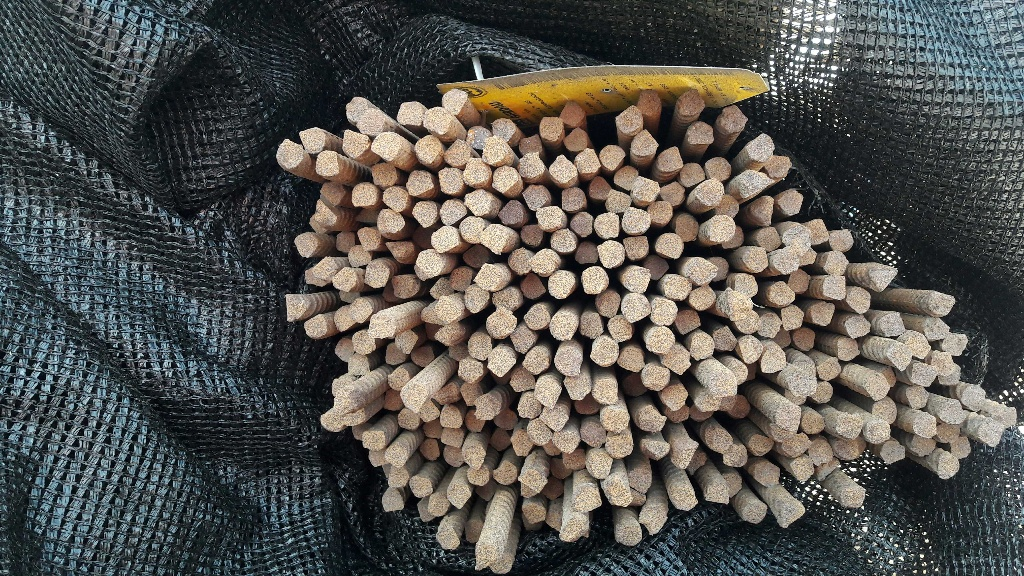dipstick: (485, 310, 517, 340), (833, 435, 868, 462), (867, 262, 897, 293), (723, 289, 753, 319), (581, 266, 610, 296), (975, 418, 1005, 447), (778, 499, 806, 530), (589, 337, 618, 366), (621, 294, 650, 323), (718, 105, 747, 134), (647, 326, 676, 355), (413, 251, 443, 279), (629, 175, 660, 202), (740, 171, 772, 197), (622, 207, 651, 235), (630, 129, 658, 158), (686, 257, 715, 285), (662, 345, 690, 374), (554, 347, 581, 377), (760, 345, 786, 376), (605, 432, 633, 460), (597, 240, 625, 268), (783, 225, 811, 253), (276, 139, 303, 168), (341, 129, 368, 158), (371, 132, 398, 161), (443, 139, 472, 166), (548, 154, 575, 183), (661, 273, 690, 300), (637, 404, 666, 431), (599, 407, 629, 433), (561, 376, 591, 402), (750, 462, 781, 487), (937, 399, 968, 424), (517, 152, 544, 180), (547, 271, 574, 299), (606, 315, 634, 342), (677, 90, 705, 117), (771, 247, 799, 274), (885, 343, 912, 371), (604, 478, 630, 507), (615, 106, 644, 132), (925, 291, 955, 316), (672, 310, 703, 334), (435, 297, 462, 324), (617, 346, 644, 373), (746, 134, 773, 161), (828, 227, 855, 254), (650, 299, 677, 326), (642, 364, 669, 391), (845, 288, 872, 315), (879, 310, 906, 337), (422, 106, 448, 134), (377, 208, 405, 234), (521, 183, 549, 209), (474, 263, 500, 291), (487, 348, 513, 376), (524, 303, 550, 331), (774, 403, 800, 431), (492, 165, 517, 194), (587, 450, 612, 479), (414, 135, 438, 165), (685, 121, 715, 145), (656, 385, 687, 408), (298, 127, 325, 153), (592, 379, 619, 405), (623, 235, 650, 261), (656, 233, 683, 259), (731, 272, 758, 298), (616, 518, 642, 545), (382, 186, 410, 211), (430, 226, 458, 251), (483, 225, 508, 253), (506, 247, 531, 275), (549, 314, 574, 342), (622, 267, 650, 292), (696, 180, 724, 205), (707, 216, 735, 241), (922, 316, 950, 341), (690, 331, 714, 360), (510, 325, 533, 355), (641, 506, 664, 536), (357, 109, 383, 135), (313, 201, 339, 227), (529, 249, 555, 275), (405, 170, 432, 195), (410, 201, 437, 226), (463, 159, 490, 184), (437, 167, 462, 194), (464, 188, 489, 215), (576, 147, 601, 174), (400, 384, 425, 411), (550, 228, 577, 253), (600, 144, 627, 169), (612, 165, 639, 190), (754, 226, 781, 251), (742, 247, 769, 272), (768, 280, 795, 305), (809, 301, 836, 326), (871, 398, 898, 423), (863, 373, 888, 400), (943, 332, 970, 357), (520, 468, 544, 496), (536, 380, 560, 408), (834, 413, 862, 437), (465, 285, 488, 314), (367, 315, 396, 338), (551, 431, 580, 454), (560, 520, 589, 543), (572, 490, 601, 513), (738, 335, 761, 364), (388, 274, 418, 296), (752, 196, 774, 226), (639, 440, 670, 461), (441, 88, 466, 114), (440, 199, 466, 224), (538, 115, 563, 141), (558, 186, 583, 212), (568, 211, 593, 237), (594, 213, 620, 238), (657, 147, 682, 173), (777, 190, 802, 216), (672, 486, 697, 512), (928, 348, 953, 374), (911, 412, 936, 438), (482, 137, 506, 164), (460, 216, 484, 243), (491, 287, 518, 311), (541, 406, 568, 430), (596, 289, 620, 316), (690, 285, 717, 309), (528, 418, 551, 446), (713, 325, 736, 353), (908, 435, 937, 457), (398, 101, 423, 126), (621, 371, 646, 396), (315, 150, 339, 176), (351, 330, 377, 354), (493, 460, 517, 486), (523, 349, 547, 375), (705, 157, 731, 181), (647, 201, 673, 225), (822, 274, 846, 300), (845, 314, 871, 338), (706, 428, 730, 454), (722, 444, 748, 468), (748, 433, 774, 457), (906, 333, 930, 359), (911, 363, 937, 387), (963, 386, 987, 412), (345, 95, 368, 122), (385, 239, 412, 262), (561, 100, 584, 127), (535, 207, 562, 230), (512, 367, 535, 394), (638, 90, 661, 117), (764, 155, 791, 178), (756, 311, 779, 338), (865, 419, 892, 442), (369, 163, 397, 185), (939, 452, 960, 481), (292, 233, 317, 257), (490, 118, 515, 142), (363, 263, 388, 287), (462, 242, 487, 266), (519, 222, 543, 247), (473, 544, 497, 569), (573, 241, 598, 265), (790, 371, 815, 395), (835, 335, 859, 360), (903, 386, 928, 410), (680, 162, 706, 185), (629, 467, 652, 493), (790, 454, 813, 480), (817, 357, 843, 380), (283, 294, 305, 321), (582, 422, 604, 449), (676, 215, 698, 242), (807, 218, 829, 245), (879, 441, 906, 463), (673, 441, 694, 469), (932, 423, 960, 444), (467, 125, 491, 149), (302, 315, 326, 339), (457, 359, 481, 383), (436, 526, 460, 550), (580, 313, 604, 337), (660, 181, 684, 205), (646, 256, 670, 280), (499, 201, 524, 224), (348, 298, 371, 323), (428, 278, 453, 301), (520, 275, 545, 298), (586, 176, 611, 199), (841, 486, 866, 509), (351, 183, 377, 205), (728, 395, 750, 421), (321, 181, 345, 204), (467, 336, 490, 360), (381, 490, 405, 513), (824, 251, 848, 274), (787, 269, 810, 293), (706, 482, 729, 506), (809, 440, 832, 464), (447, 484, 469, 509), (605, 189, 630, 211), (562, 128, 588, 149), (512, 431, 533, 457), (518, 392, 538, 419), (721, 472, 741, 499), (550, 456, 573, 479), (716, 194, 739, 217), (939, 363, 962, 386), (449, 269, 471, 293), (418, 439, 442, 461), (384, 467, 408, 489), (722, 226, 746, 248), (735, 311, 759, 333), (793, 328, 815, 352), (744, 502, 768, 524), (800, 411, 824, 433), (316, 412, 341, 433), (785, 435, 810, 456), (520, 503, 546, 523), (573, 395, 599, 415), (708, 256, 728, 282), (397, 408, 419, 431), (440, 426, 462, 449), (384, 446, 407, 468), (410, 476, 432, 499), (463, 446, 485, 469), (495, 408, 518, 430), (714, 374, 737, 396), (357, 227, 381, 248), (394, 331, 415, 355), (440, 404, 461, 428), (665, 403, 689, 424), (813, 381, 834, 405), (349, 246, 371, 268), (332, 269, 355, 290), (460, 381, 481, 404), (435, 384, 459, 404), (563, 449, 587, 469), (780, 306, 804, 326), (728, 361, 748, 385), (360, 431, 385, 450), (335, 391, 361, 409), (411, 225, 432, 247), (314, 258, 335, 280), (386, 369, 408, 390), (490, 429, 511, 451), (543, 479, 565, 500), (411, 348, 434, 368), (384, 343, 407, 363), (347, 355, 370, 375), (427, 494, 447, 517), (466, 465, 489, 485), (996, 408, 1019, 428), (949, 439, 972, 459), (688, 406, 715, 423), (518, 134, 542, 153), (334, 307, 353, 331), (436, 327, 460, 346), (463, 520, 482, 544), (687, 452, 706, 476), (697, 392, 721, 411), (879, 365, 898, 389), (339, 409, 364, 427), (783, 387, 808, 405), (464, 409, 484, 431), (445, 445, 464, 468), (489, 555, 512, 574), (793, 356, 816, 375), (813, 460, 842, 475), (774, 326, 791, 351), (334, 232, 355, 252), (420, 401, 440, 422), (797, 245, 816, 267), (334, 339, 352, 362), (475, 398, 493, 421), (769, 424, 793, 441), (329, 378, 349, 398), (421, 306, 442, 325), (422, 321, 441, 342), (383, 391, 402, 412), (422, 419, 441, 440), (474, 482, 496, 500), (367, 450, 393, 465), (355, 207, 377, 224), (349, 423, 368, 442), (309, 215, 329, 233), (305, 269, 325, 287), (520, 515, 544, 530), (446, 344, 467, 361), (630, 488, 646, 510), (716, 394, 734, 413), (547, 508, 561, 532), (417, 499, 432, 521), (490, 372, 513, 386), (544, 439, 562, 456), (744, 362, 758, 382), (336, 290, 359, 302), (381, 286, 396, 303)
